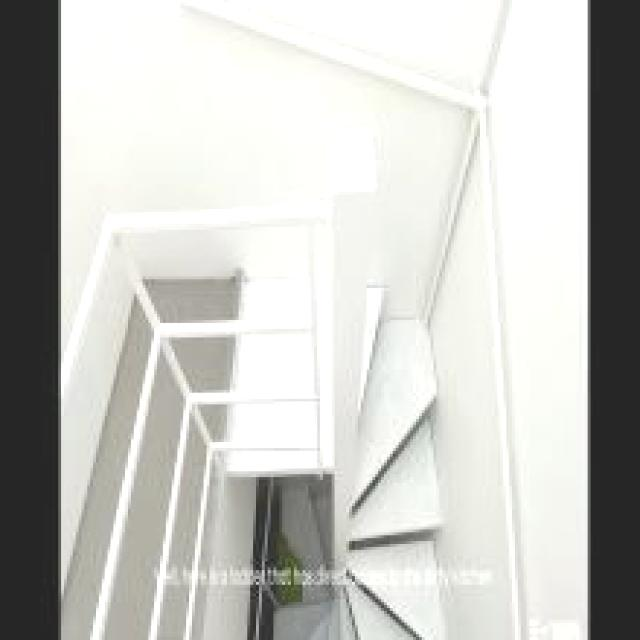downstair: (356, 295, 455, 557)
